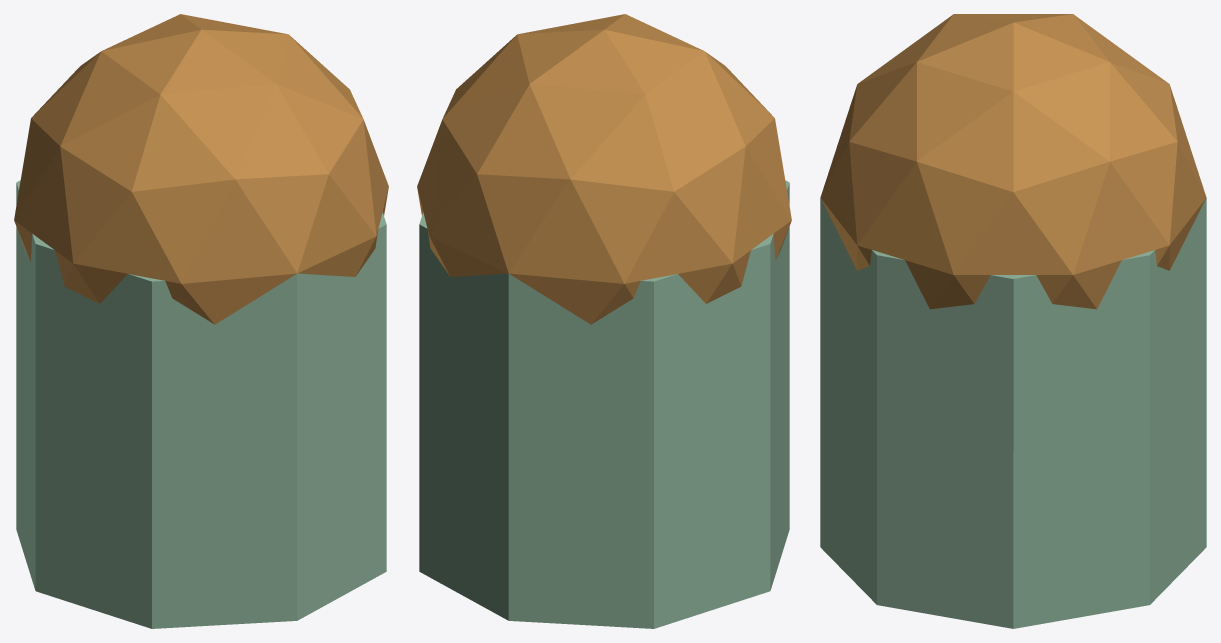
The model's file is low_poly_tree.fbx.
3 renders of one model, left to right at view 1: azimuth 30°, elevation 25°; view 2: azimuth 150°, elevation 25°; view 3: azimuth 270°, elevation 25°, orthographic.
Parts seen in each view (by area): view 1: low_poly_tree; view 2: low_poly_tree; view 3: low_poly_tree.
Part boxes in pixels (x1,y1,x2,y2): low_poly_tree: [14, 14, 388, 628]; low_poly_tree: [417, 14, 791, 628]; low_poly_tree: [820, 14, 1206, 628].
Bounding box in the file's own units: 200 × 300 × 200.
